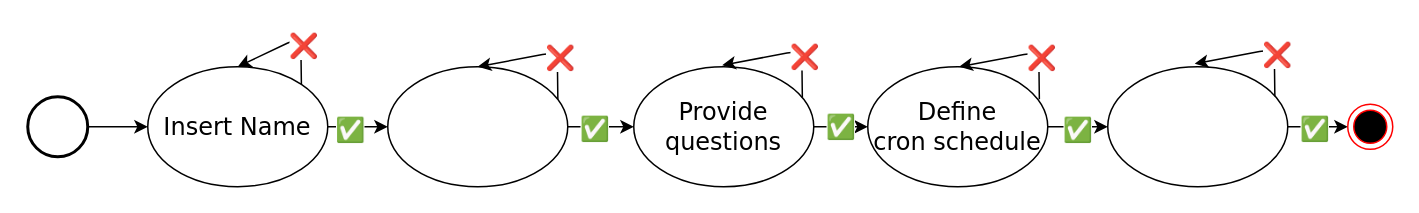
This 1419x213 diagram has some shape labels left out. The shapes that lost their labels are listed below. From the top down, each one's box as (x1, y1, x2, y2) in pixels, then its label:
(386, 65, 568, 187): Insert Google Sheet link
(1106, 65, 1288, 187): Choose CODE
